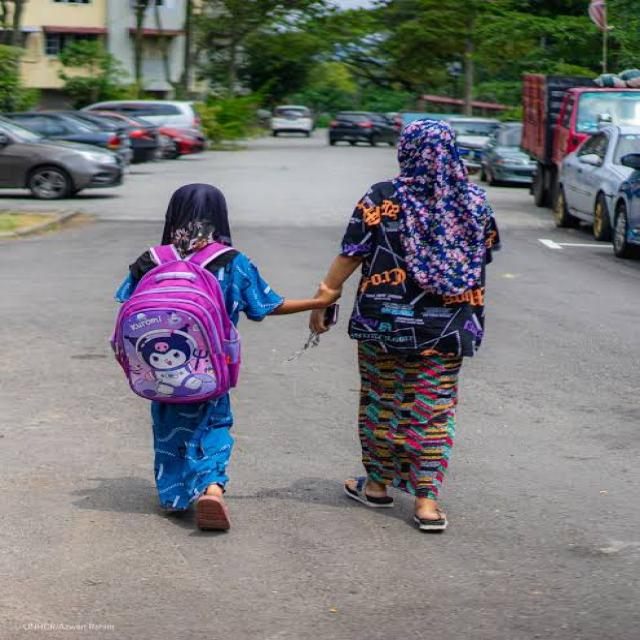Person: (312, 99, 514, 549), (115, 179, 335, 554)
